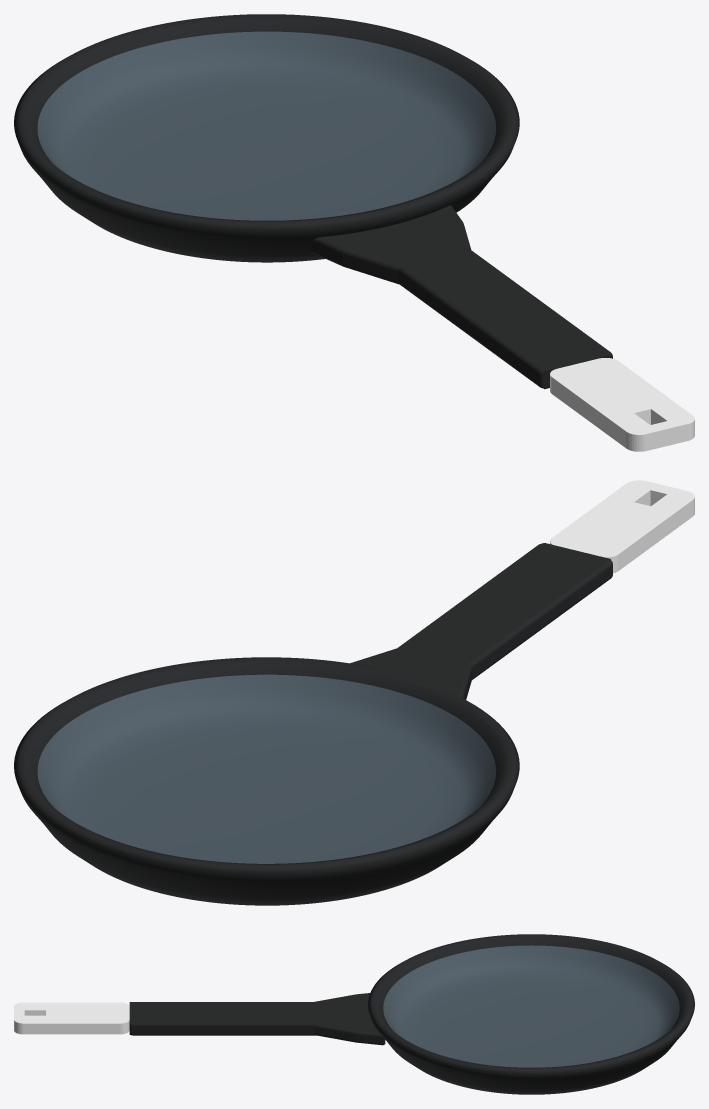
The picture shows the model from 3 angles, top to bottom: view 1: azimuth 30°, elevation 25°; view 2: azimuth 150°, elevation 25°; view 3: azimuth 270°, elevation 25°; orthographic projection. The views are drawn at different scales.
Parts seen in each view (by area): view 1: pan_body, flat_handle_core, wooden_grip_section; view 2: pan_body, flat_handle_core, wooden_grip_section; view 3: pan_body, flat_handle_core, wooden_grip_section.
Part boxes in pixels (x1,y1,x2,y2): pan_body: [14, 14, 519, 262]; flat_handle_core: [310, 205, 612, 389]; wooden_grip_section: [550, 358, 694, 451]; pan_body: [14, 657, 519, 905]; flat_handle_core: [350, 543, 612, 699]; wooden_grip_section: [550, 480, 694, 573]; pan_body: [368, 934, 694, 1094]; flat_handle_core: [129, 993, 385, 1045]; wooden_grip_section: [14, 1002, 129, 1034].
Size of the model in its own units: 6.45 by 0.905 by 13.43.
